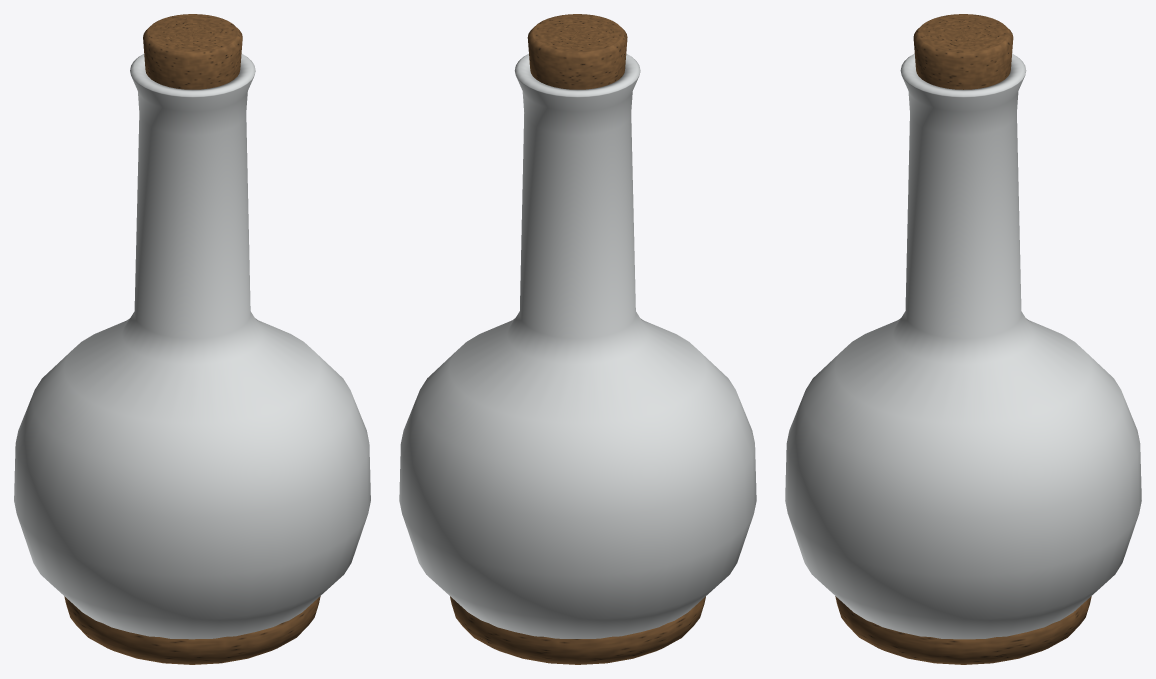
Rendered from bottle_roundflask_lod1.glb.
The picture shows the model from 3 angles, left to right: view 1: azimuth 30°, elevation 25°; view 2: azimuth 150°, elevation 25°; view 3: azimuth 270°, elevation 25°; orthographic projection.
Parts seen in each view (by area): view 1: Glass, Cap, Stand; view 2: Glass, Cap, Stand; view 3: Glass, Cap, Stand.
Part boxes in pixels (x1=…): Glass: x1=14, y1=54, x2=370, y2=639; Cap: x1=143, y1=14, x2=242, y2=89; Stand: x1=64, y1=596, x2=320, y2=664; Glass: x1=399, y1=53, x2=756, y2=638; Cap: x1=527, y1=14, x2=627, y2=89; Stand: x1=450, y1=596, x2=705, y2=664; Glass: x1=785, y1=53, x2=1141, y2=639; Cap: x1=913, y1=14, x2=1013, y2=89; Stand: x1=835, y1=596, x2=1091, y2=664.
Bounding box in the file's own units: 0.0861 × 0.156 × 0.0859.
4 materials, 2 textured.
